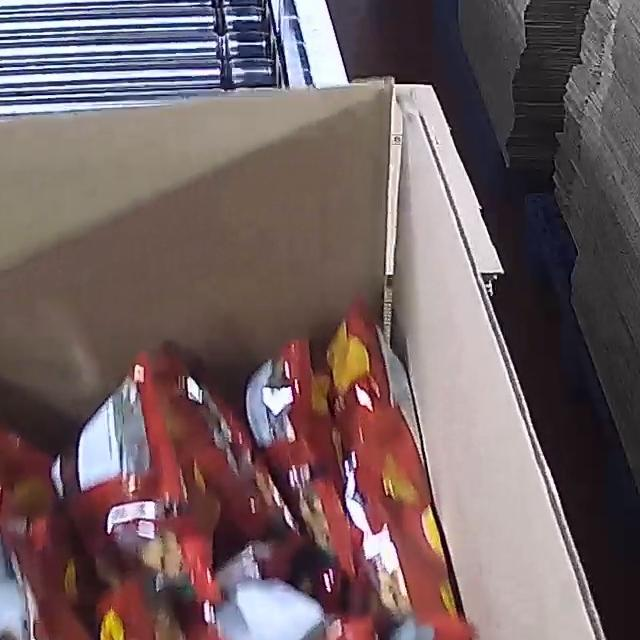masala: (0, 305, 519, 640)
